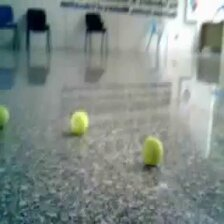tennis: (143, 138, 163, 164), (68, 110, 89, 133), (1, 106, 10, 127)
